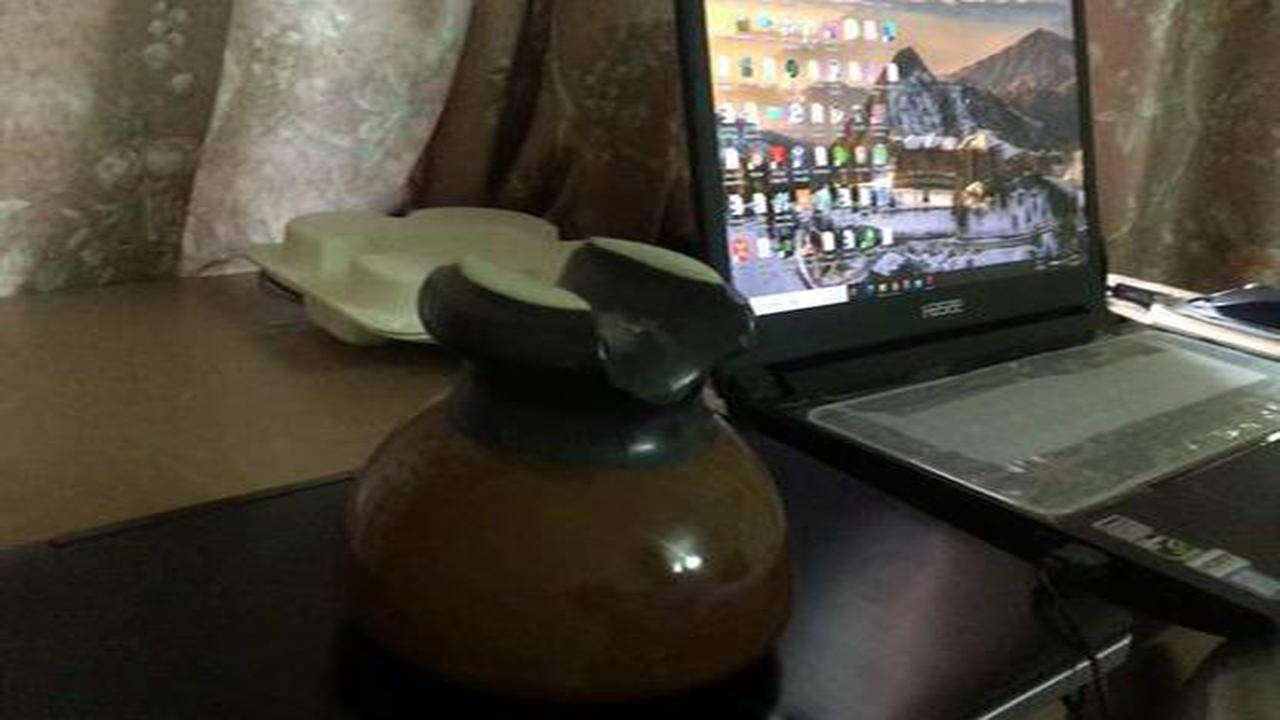insulator_pin: (314, 224, 825, 703)
